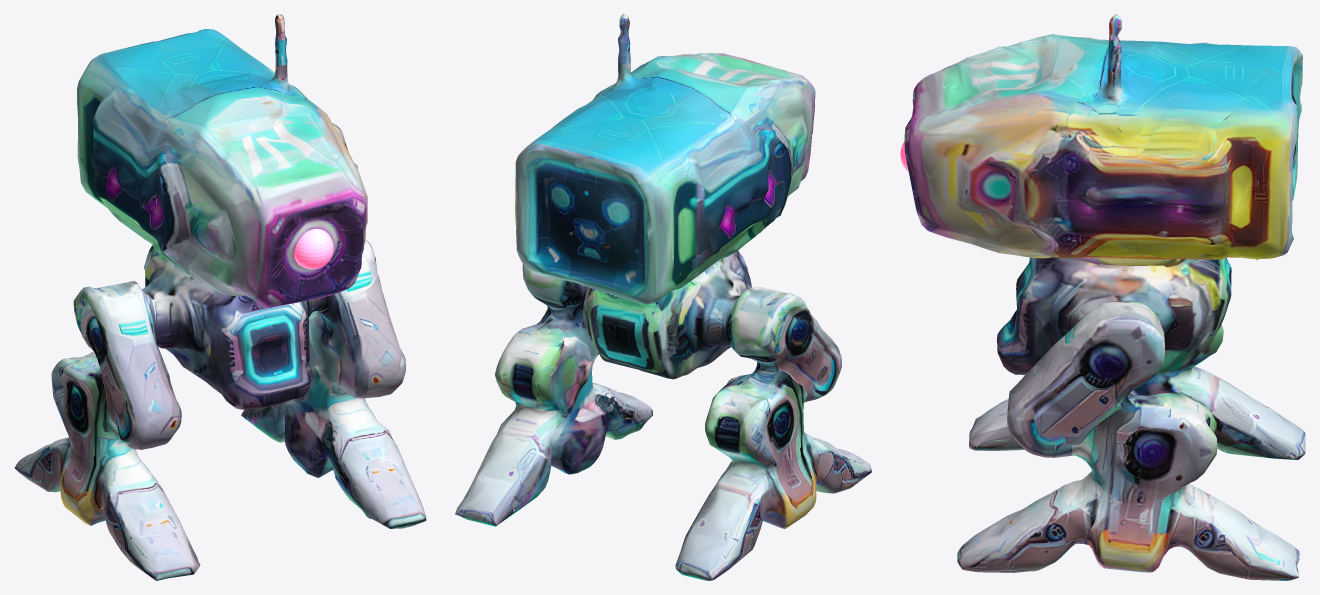
Rendered from VBot.glb.
3 views of the same model, side by side, from view 1: azimuth 30°, elevation 25°; view 2: azimuth 150°, elevation 25°; view 3: azimuth 270°, elevation 25° (orthographic). The views are drawn at different scales.
Visible parts, largest first — view 1: Body, Head, Eye; view 2: Body, Head; view 3: Head, Body.
Part boxes in pixels (box(x1,y1,x2,y2)): Body: box(14, 239, 426, 580); Head: box(77, 14, 367, 308); Eye: box(294, 228, 333, 269); Body: box(455, 251, 871, 580); Head: box(515, 14, 815, 304); Head: box(904, 14, 1302, 267); Body: box(957, 233, 1305, 580).
Bounding box in the file's own units: 0.7614 × 1.18 × 0.8279.
Materials: 2 (1 with a texture image).
